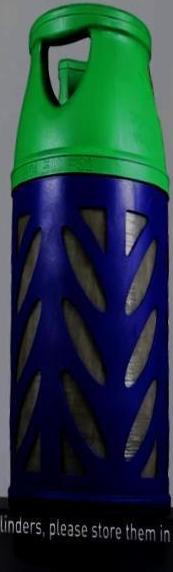cylinder: (1, 1, 173, 572)
